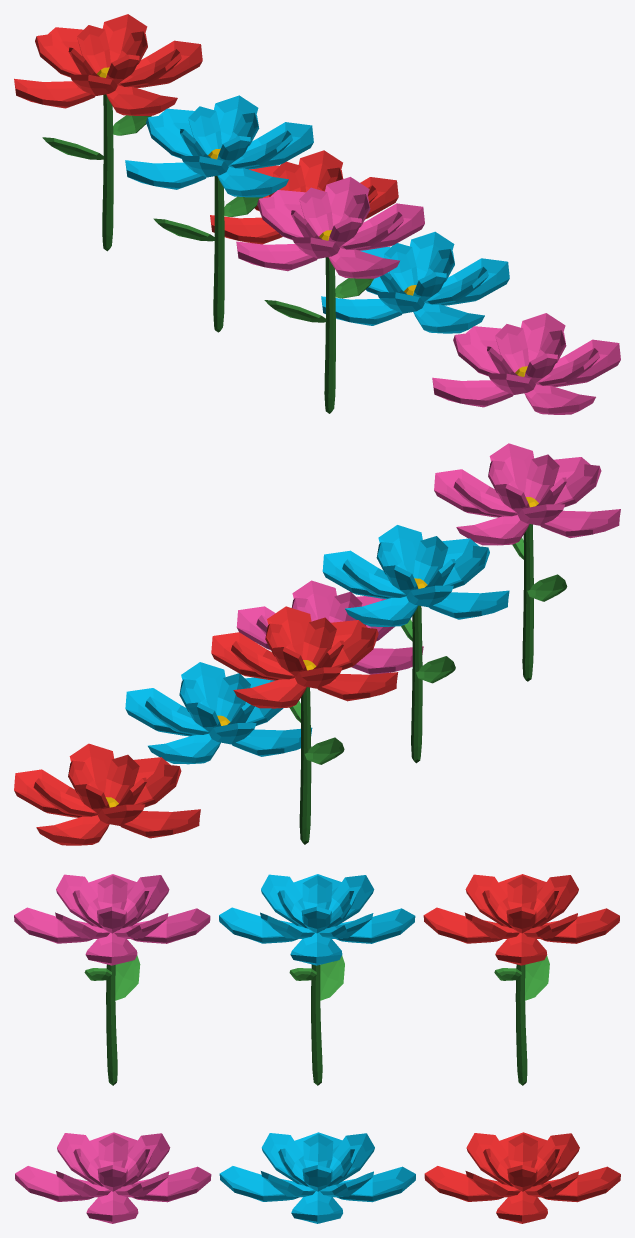
Rendered from 3D_Flowers_01a.fbx.
3 renders of one model, top to bottom at view 1: azimuth 30°, elevation 25°; view 2: azimuth 150°, elevation 25°; view 3: azimuth 270°, elevation 25°, orthographic. The views are drawn at different scales.
Visible parts, largest first — view 1: pCube21 (×26), pCube22 (×27), pCube23 (×3), pCube24 (×3), pCube25 (×3); view 2: pCube21 (×28), pCube22 (×25), pCube23 (×3), pCube24 (×3); view 3: pCube22 (×24), pCube21 (×30), pCube23 (×3), pCube24 (×3).
Boxes of the visible parts, box(x1,y1,x2,y2) form: pCube21 (×26): box(14, 31, 620, 407); pCube22 (×27): box(69, 14, 595, 414); pCube23 (×3): box(102, 94, 335, 413); pCube24 (×3): box(42, 137, 326, 322); pCube25 (×3): box(113, 115, 373, 298); pCube21 (×28): box(14, 443, 620, 838); pCube22 (×25): box(33, 454, 601, 845); pCube23 (×3): box(299, 524, 533, 844); pCube24 (×3): box(304, 574, 567, 764); pCube22 (×24): box(14, 874, 620, 1202); pCube21 (×30): box(55, 875, 579, 1223); pCube23 (×3): box(106, 964, 527, 1085); pCube24 (×3): box(115, 955, 549, 1000).
Size of the model in its own units: 85.11 by 51.06 by 127.
